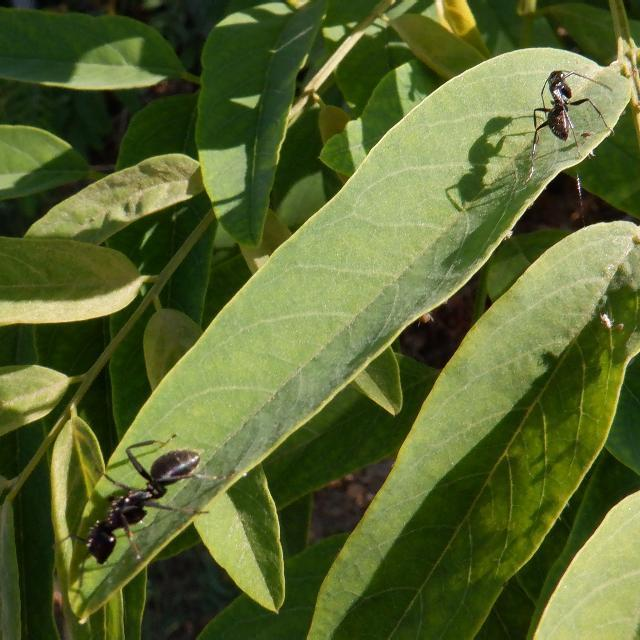Camponotus: (54, 433, 192, 575), (523, 59, 585, 152)
